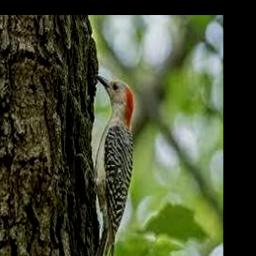Woodpecker: (74, 74, 133, 256)
